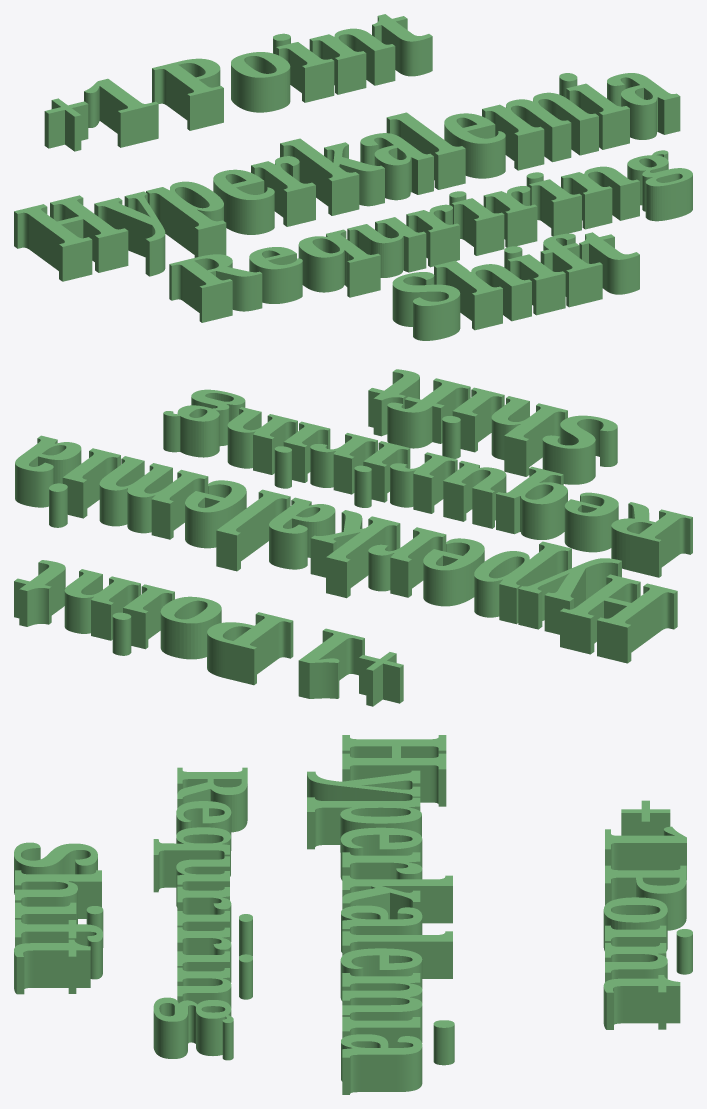
Rendered from poshyperk.gltf.
The picture shows the model from 3 angles, top to bottom: view 1: azimuth 30°, elevation 25°; view 2: azimuth 150°, elevation 25°; view 3: azimuth 270°, elevation 25°; orthographic projection. The views are drawn at different scales.
Parts seen in each view (by area): view 1: Mesh_Mesh_head_geo001_lambert2SG001; view 2: Mesh_Mesh_head_geo001_lambert2SG001; view 3: Mesh_Mesh_head_geo001_lambert2SG001.
Part boxes in pixels (x1,y1,x2,y2): Mesh_Mesh_head_geo001_lambert2SG001: [14, 14, 692, 340]; Mesh_Mesh_head_geo001_lambert2SG001: [14, 369, 692, 706]; Mesh_Mesh_head_geo001_lambert2SG001: [14, 735, 692, 1094].
Bounding box in the file's own units: 185 × 10 × 165.
